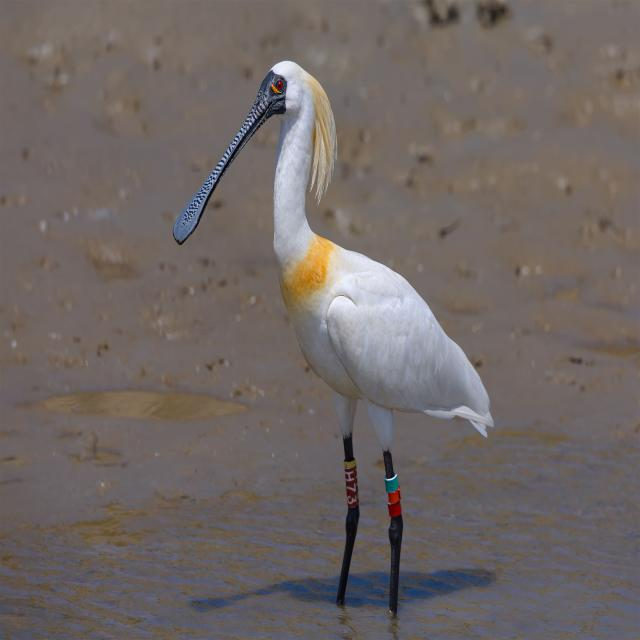Black-faced spoonbill: (174, 62, 493, 614)
